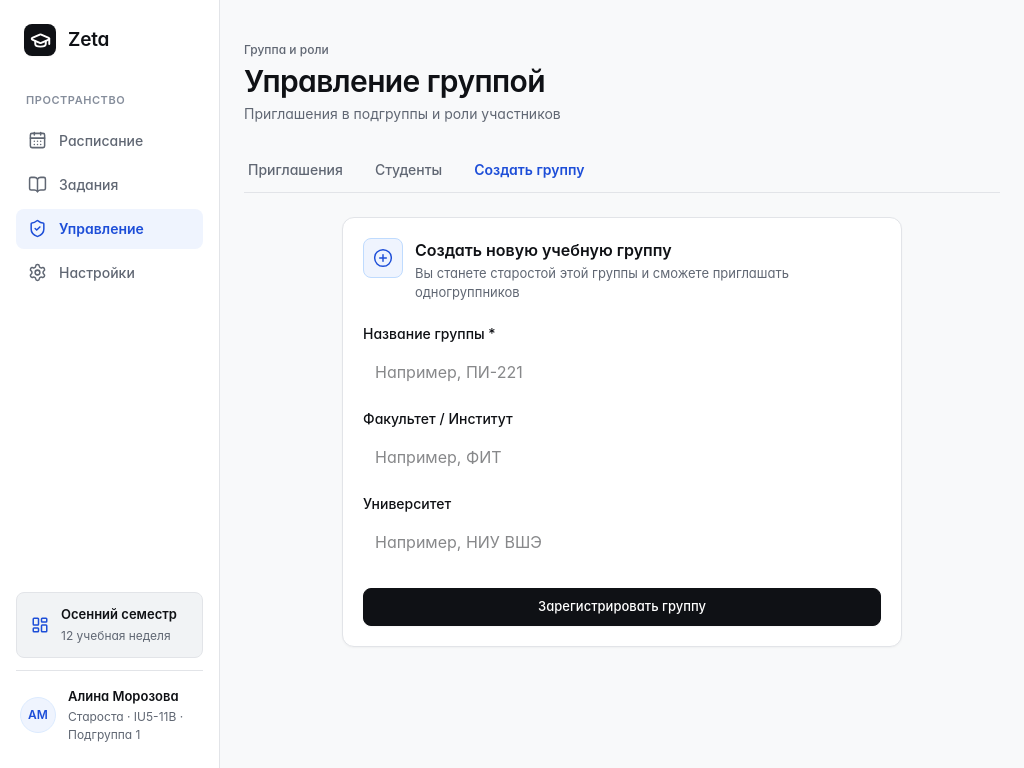
Test case: AdminPage › defaults to create_group tab when user has no group and allows creating one with toast feedback
The width and height of the screenshot is (1024, 768).
Expected: the heading "Создать новую учебную группу" is shown, x1=415 y1=240 x2=672 y2=260
Type "IU5-11B" into the field with placeholder "Например, ПИ-221". click: (622, 372)
box: x1=363 y1=350 x2=881 y2=394
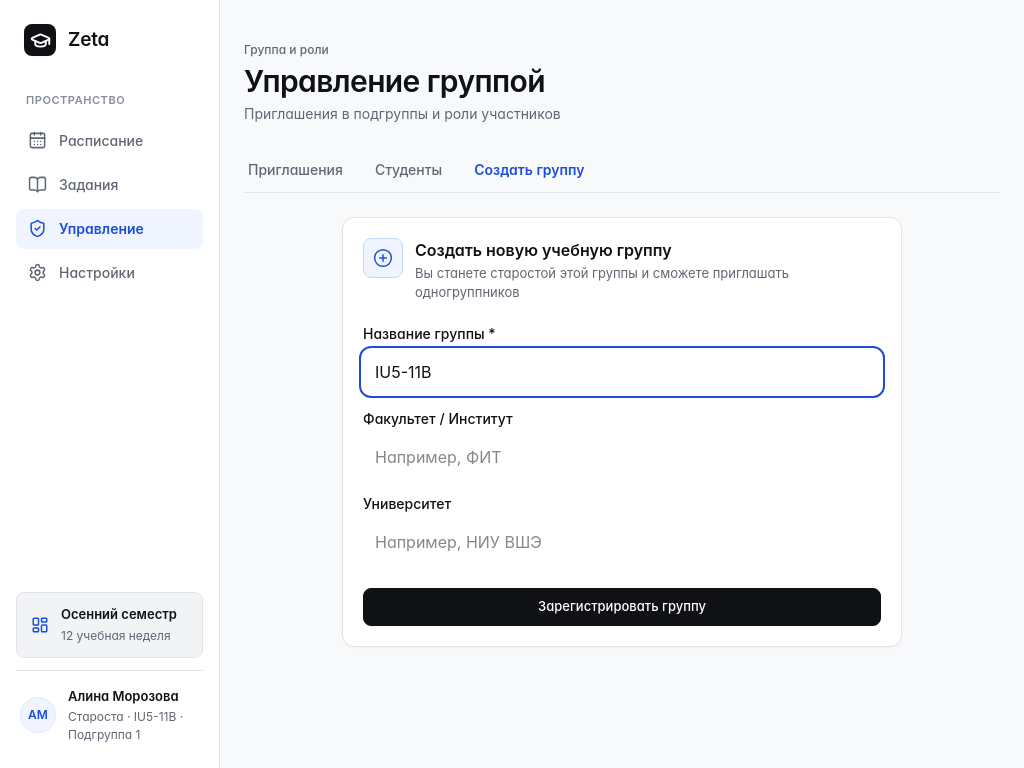
Click the button "Зарегистрировать группу". click: (622, 606)
box: x1=363 y1=588 x2=881 y2=626
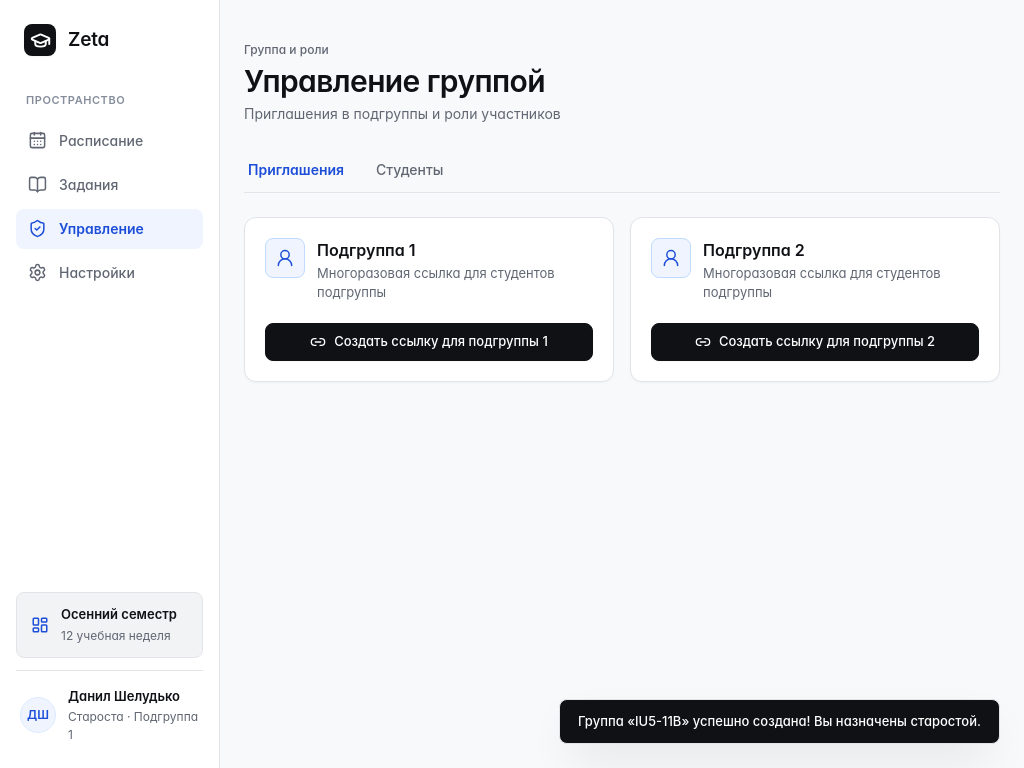
Expected: the message reads "Группа «IU5-11B» успешно создана! Вы назначены старостой.", x1=578 y1=712 x2=981 y2=728
